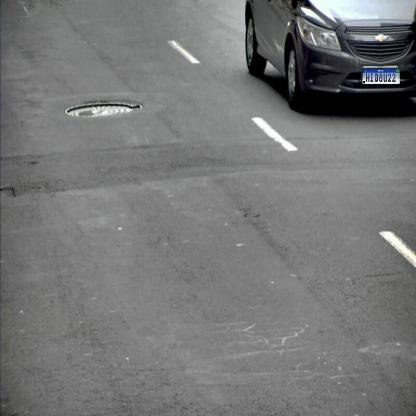PlacaM: (362, 68, 400, 85)
